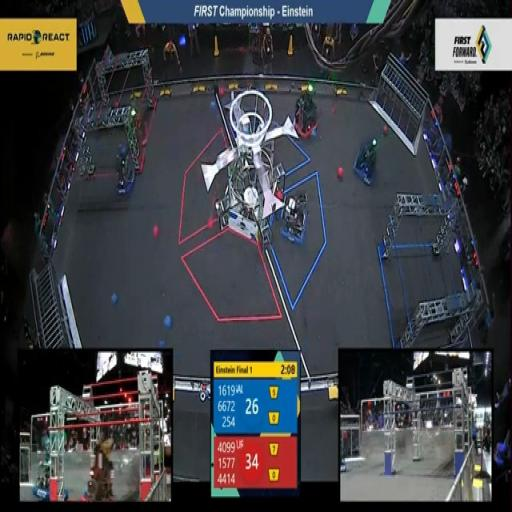robot: (278, 194, 312, 263), (350, 132, 380, 192), (289, 90, 321, 146), (122, 104, 152, 152), (110, 150, 138, 200)
